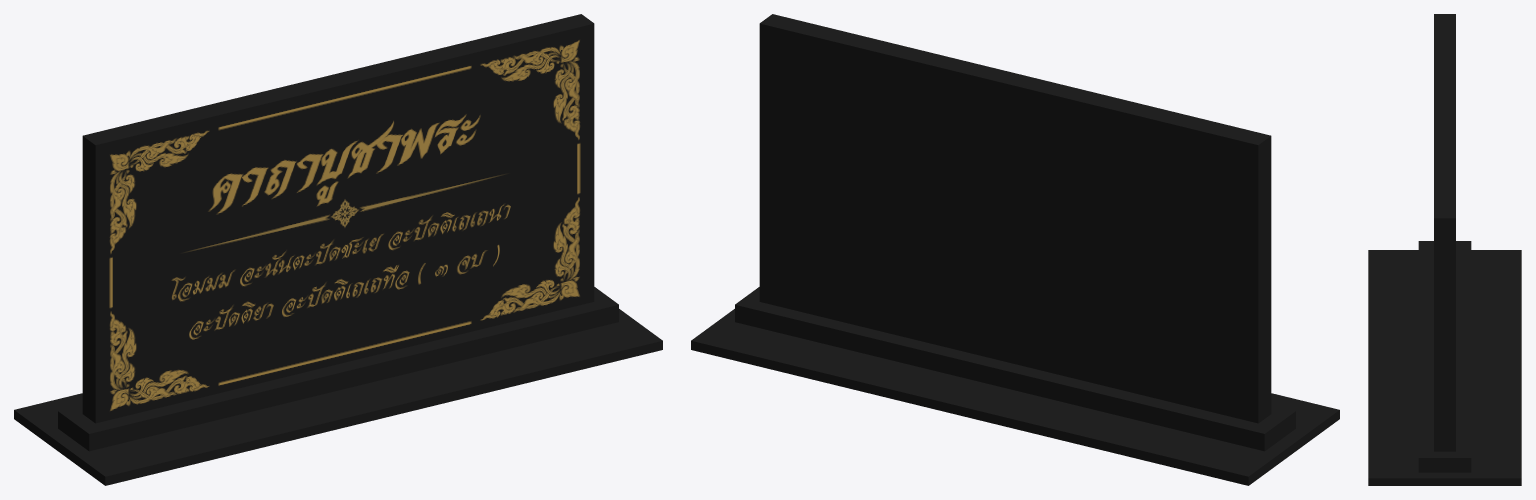
The model's file is prayerSign.fbx.
3 views of the same model, side by side, from view 1: azimuth 30°, elevation 25°; view 2: azimuth 150°, elevation 25°; view 3: azimuth 270°, elevation 25° (orthographic). The views are drawn at different scales.
Visible parts, largest first — view 1: pCube1, pCube3, pCube2; view 2: pCube1, pCube3, pCube2; view 3: pCube3, pCube1, pCube2.
Boxes of the visible parts, bbox=[...] form: pCube1: bbox=[82, 14, 594, 423]; pCube3: bbox=[14, 309, 662, 485]; pCube2: bbox=[58, 287, 618, 451]; pCube1: bbox=[759, 14, 1271, 423]; pCube3: bbox=[691, 309, 1339, 485]; pCube2: bbox=[735, 287, 1295, 451]; pCube3: bbox=[1368, 250, 1521, 485]; pCube1: bbox=[1434, 14, 1455, 451]; pCube2: bbox=[1418, 241, 1471, 472].
Size of the model in its own units: 12.46 by 6.54 by 3.54.
